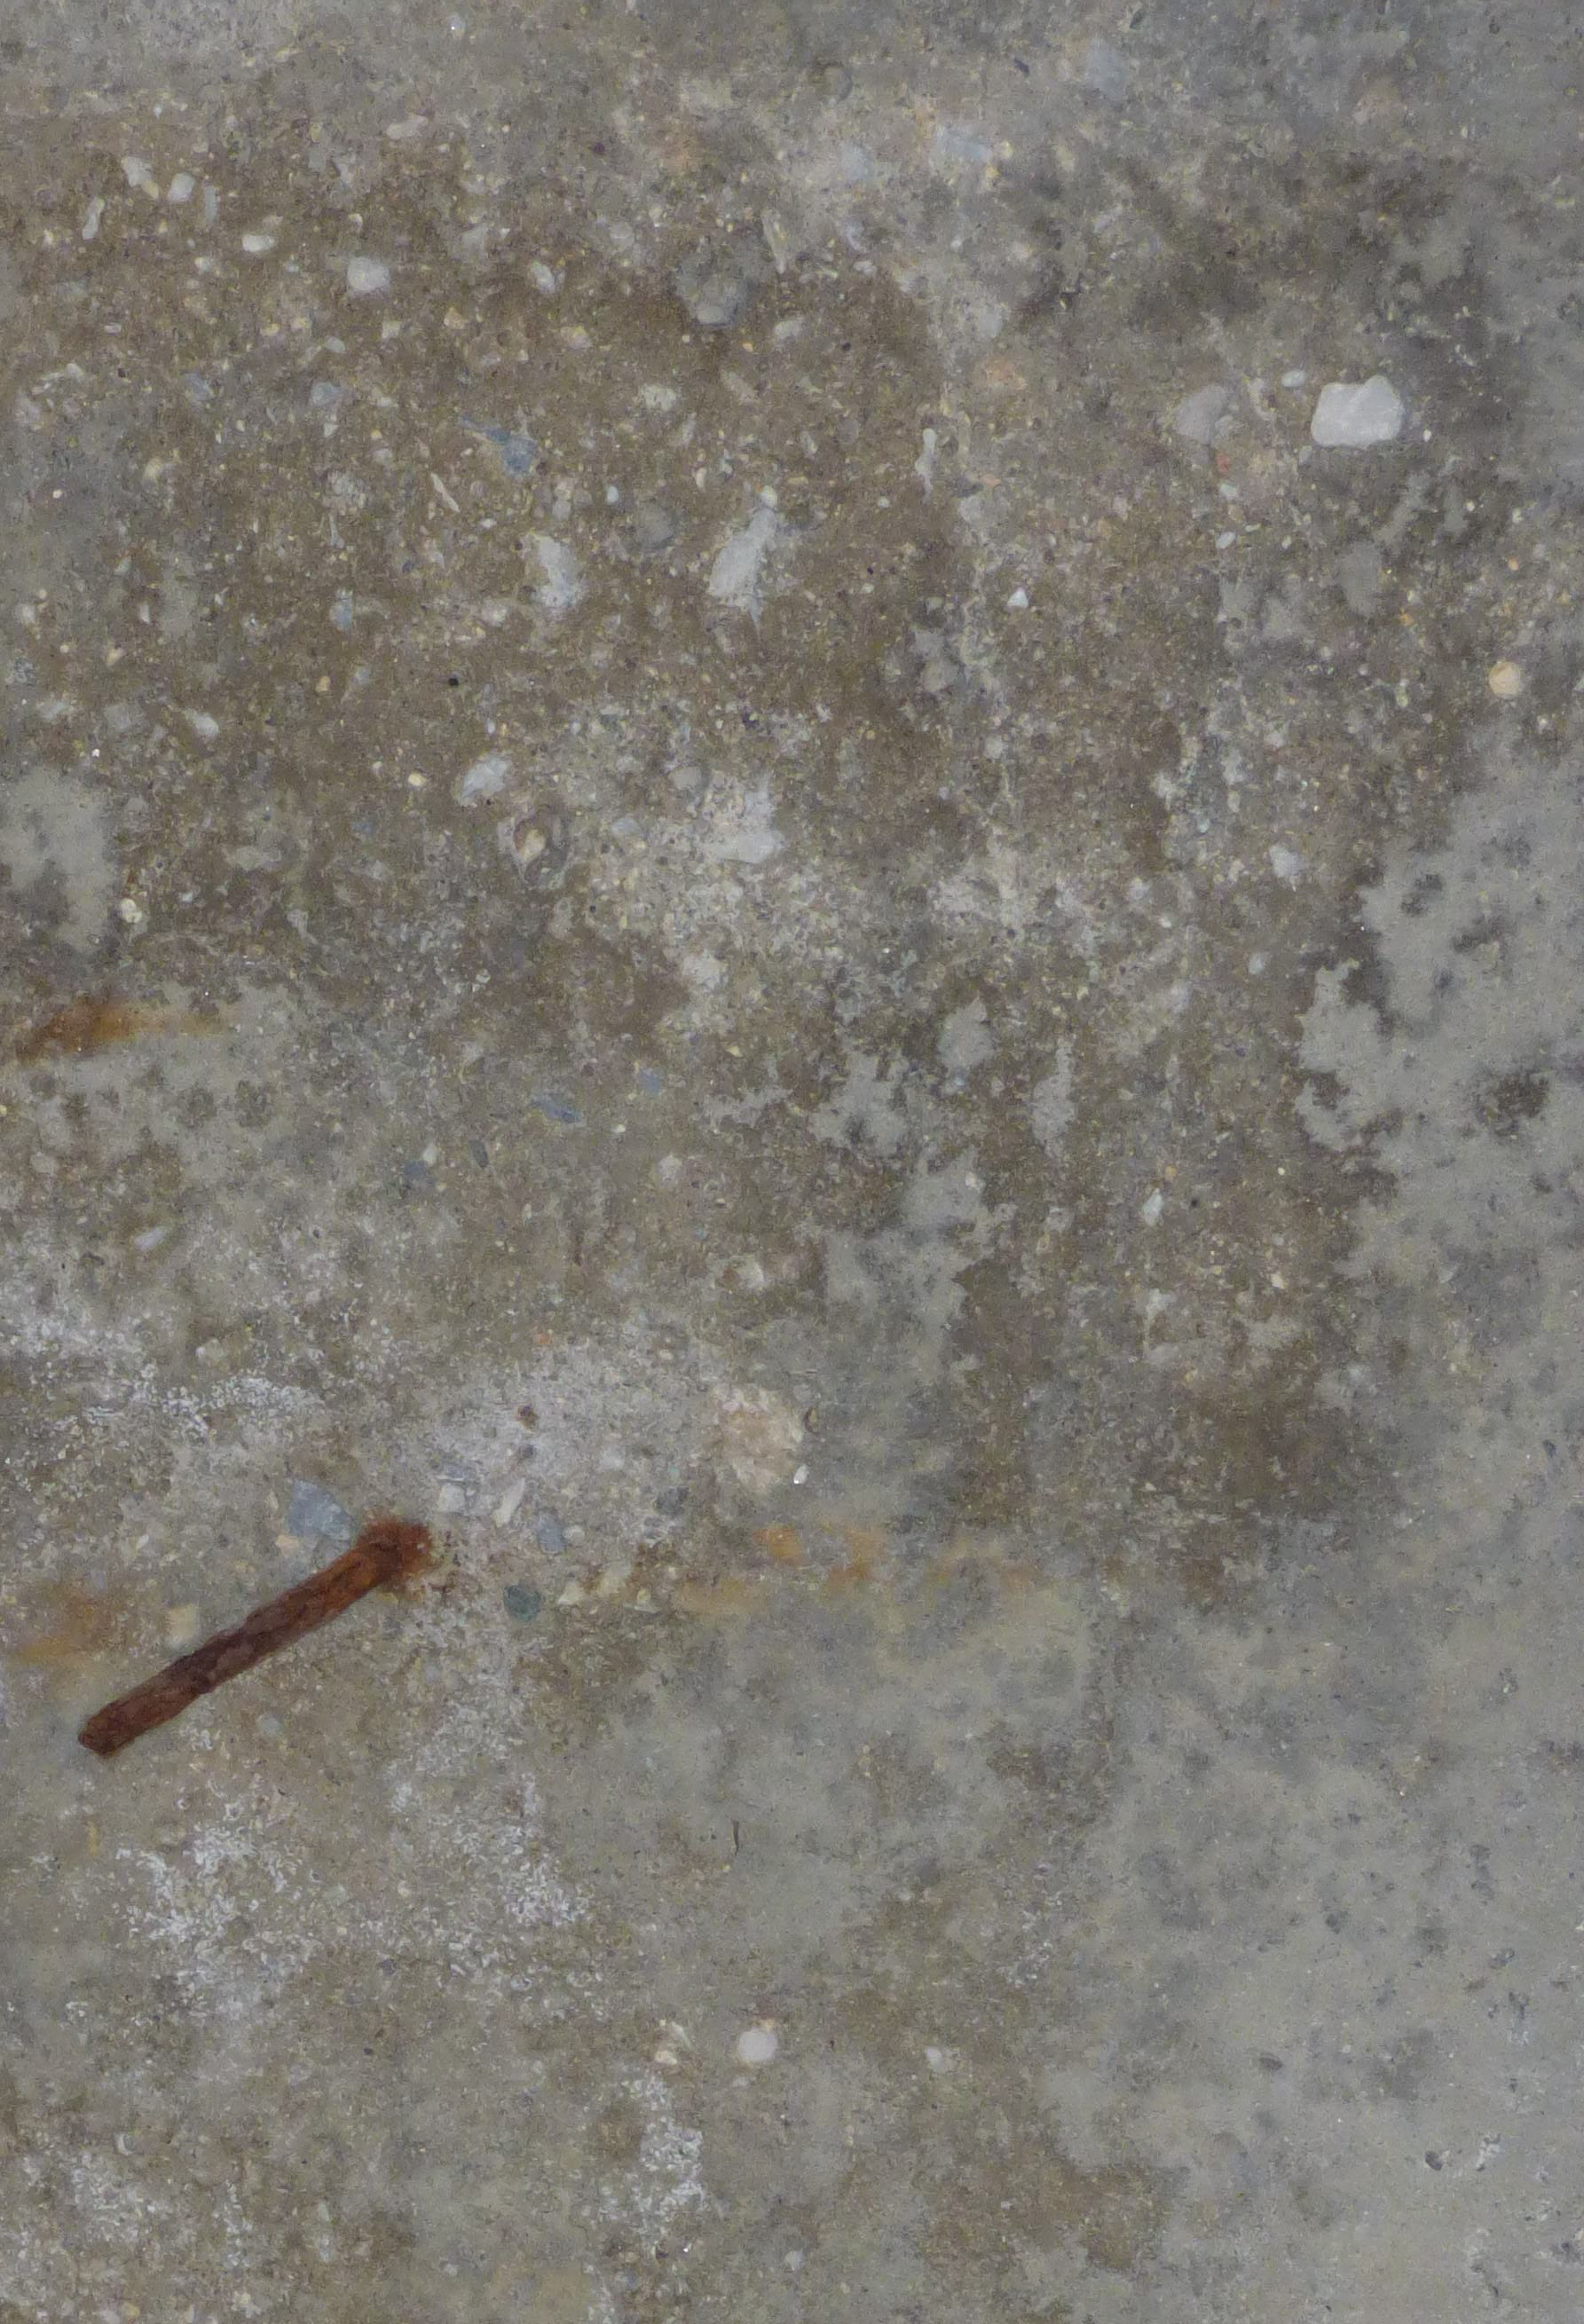Corrosion: (357, 1519, 434, 1593)
Exposed reinforcement: (76, 1547, 401, 1755)
